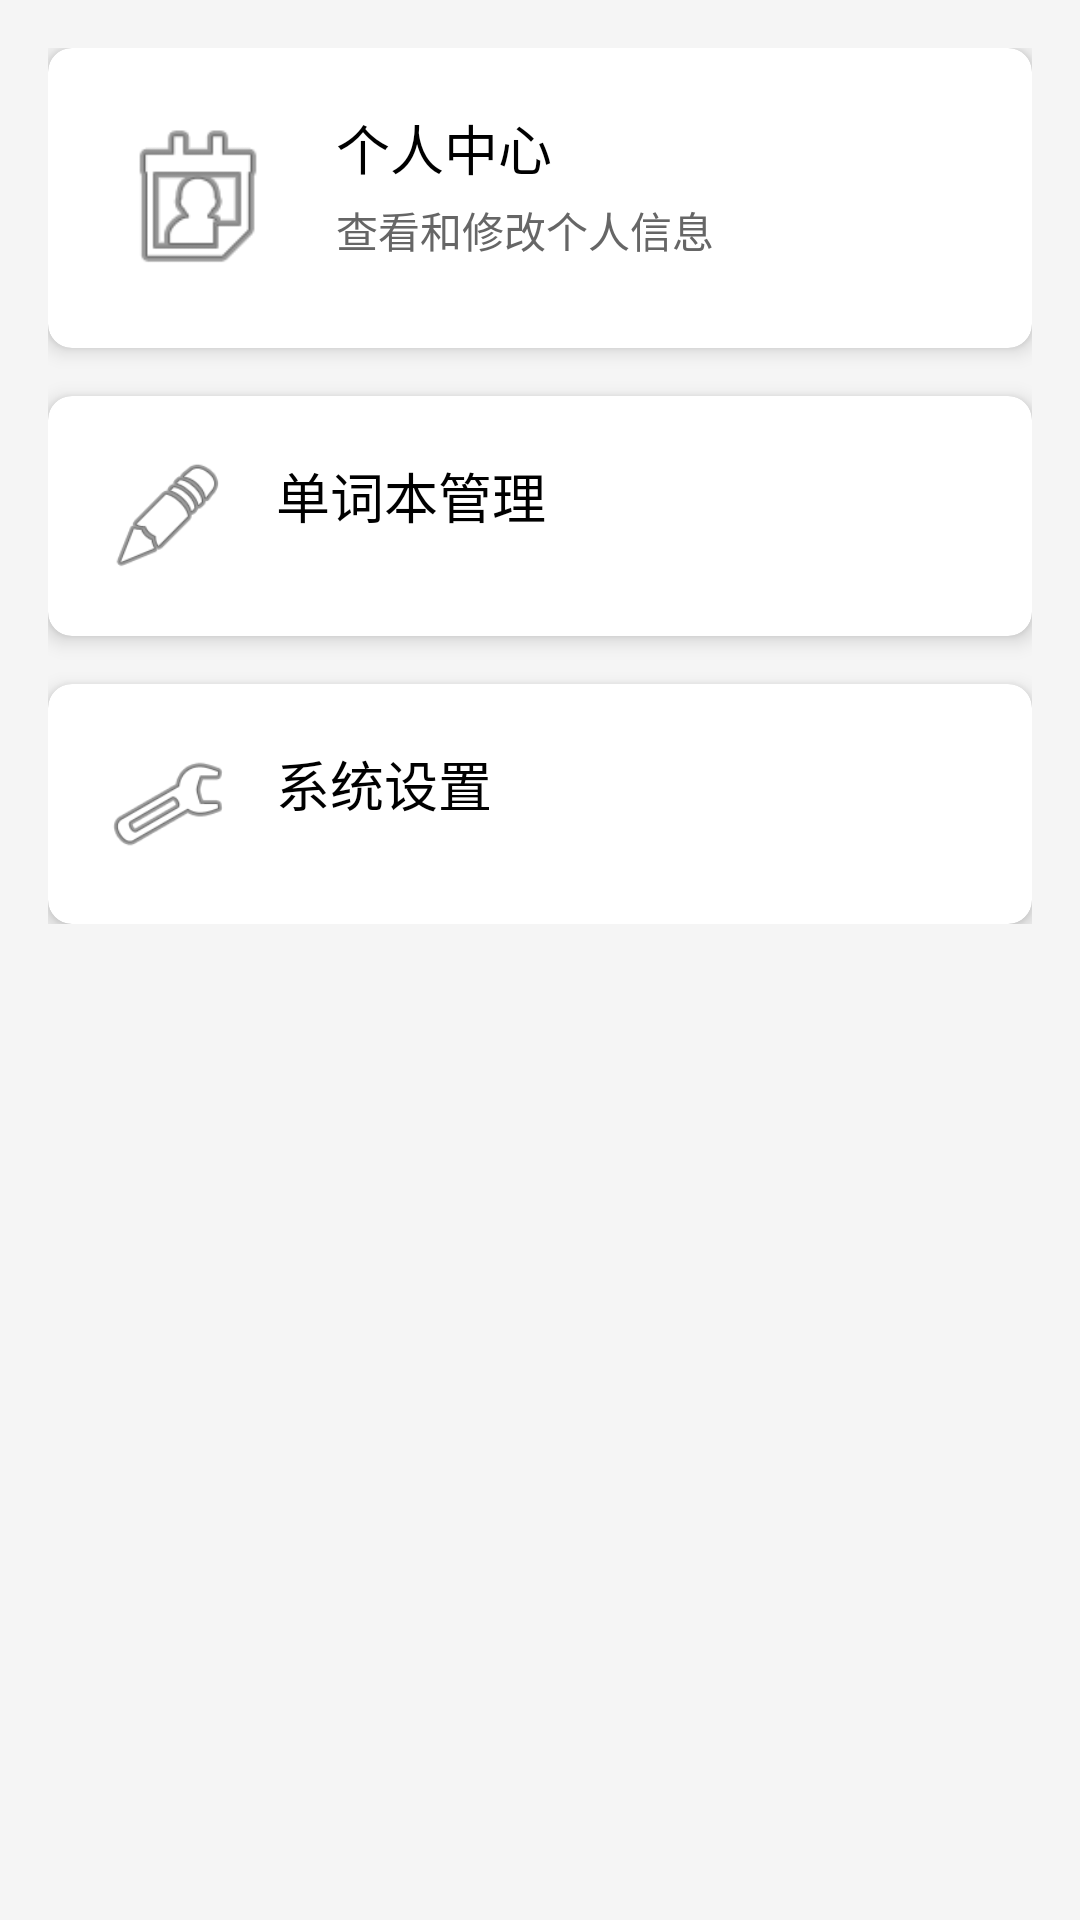

Named icons in this screenshot (1080*1920) and their centers, [x,y]:
calendar: [198,196]
edit: [167,515]
preferences: [168,804]
